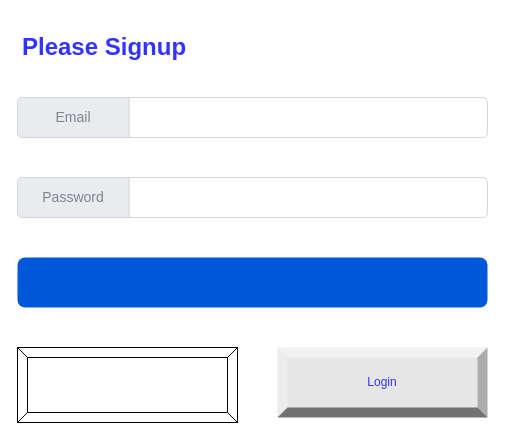
This 505x440 diagram has some shape labels left out. The shapes that lost their labels are listed below. From the top down, each one's centre as x and y in pixels, then its label:
At point (252, 282): "Submit".
At point (127, 384): "Signup".
